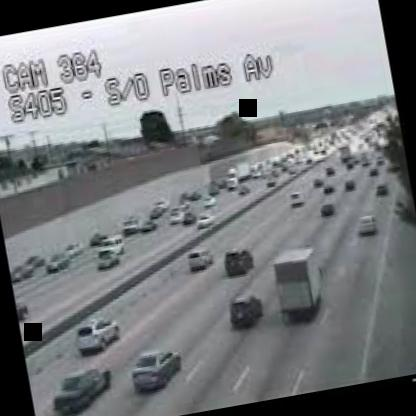car: (35, 350, 121, 416), (270, 240, 333, 324), (118, 331, 188, 403), (62, 309, 128, 360), (218, 286, 270, 348), (219, 238, 256, 281), (352, 206, 380, 242), (45, 250, 74, 282), (183, 245, 214, 274), (101, 230, 127, 261), (94, 247, 122, 271), (287, 185, 307, 214), (194, 210, 220, 232), (372, 178, 392, 204), (316, 198, 338, 219), (340, 170, 358, 195), (166, 209, 187, 230), (200, 193, 219, 214), (232, 186, 254, 202)
